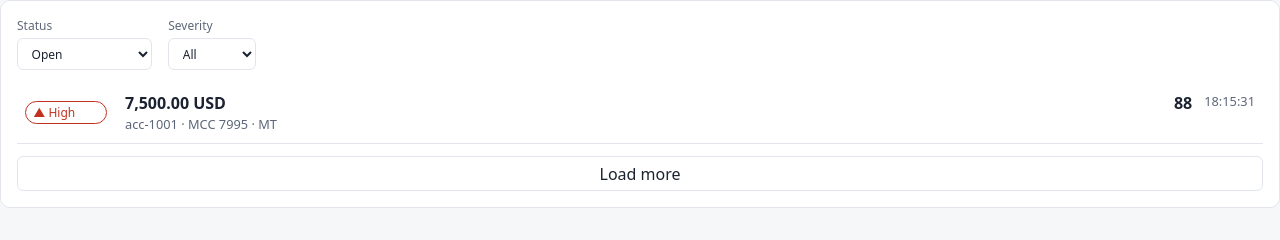
it: AlertQueue › AC-008-03: "Load more" follows the keyset cursor and appends
Click the button "Load more" at (640, 174), box [17,156,1263,191]
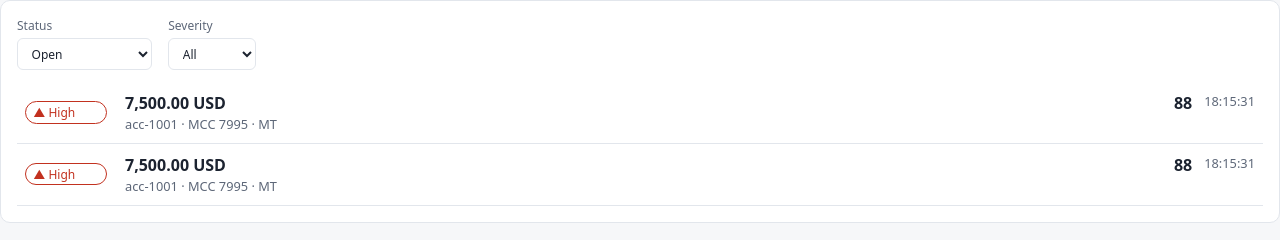
Result: the number of options is 2 at [17,82,1263,144]; [17,144,1263,206]
Result: the button "Load more" is gone
